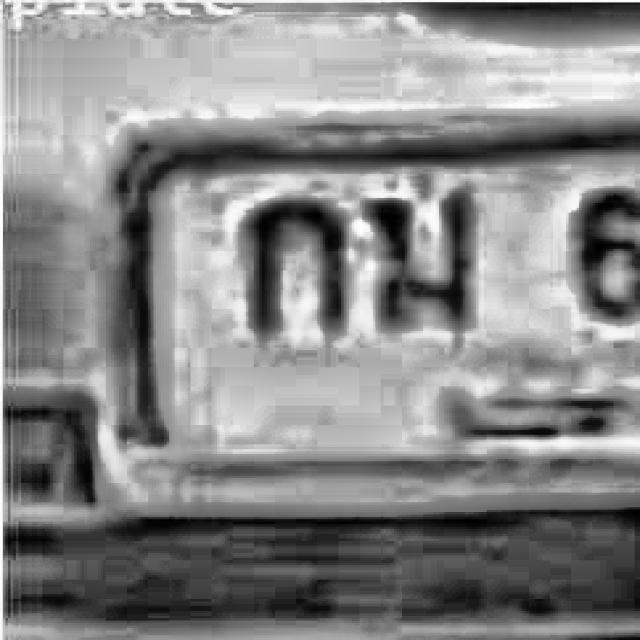license-plate: (68, 85, 640, 537)
